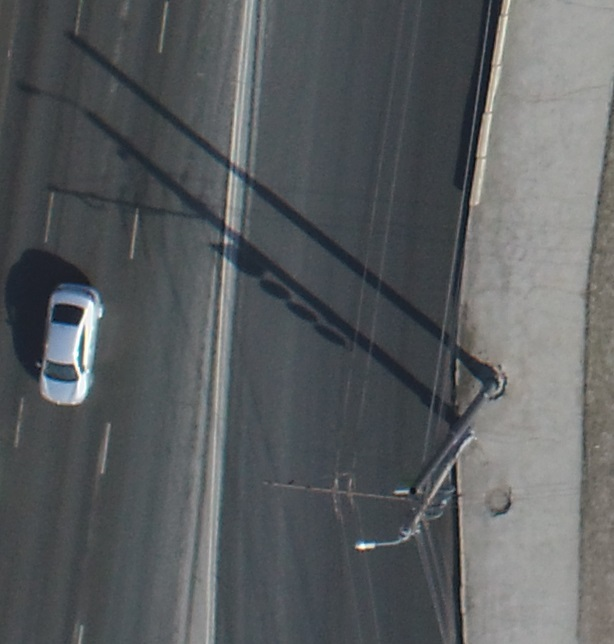opora: (407, 313, 500, 496), (355, 429, 477, 553)
